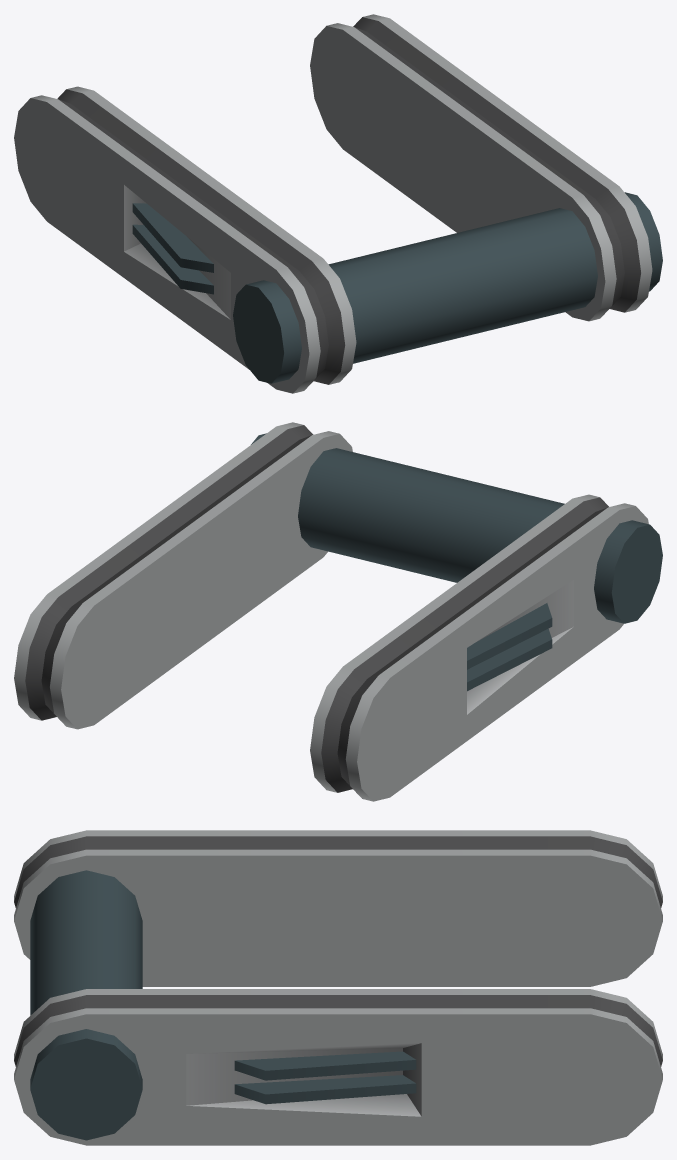
Rendered from Turret_002_Port_03.fbx.
The picture shows the model from 3 angles, top to bottom: view 1: azimuth 30°, elevation 25°; view 2: azimuth 150°, elevation 25°; view 3: azimuth 270°, elevation 25°; orthographic projection. The views are drawn at different scales.
Visible parts, largest first — view 1: Turret_002_Port_03; view 2: Turret_002_Port_03; view 3: Turret_002_Port_03.
Boxes of the visible parts, <box> form: Turret_002_Port_03: <box>14,14,662,393</box>; Turret_002_Port_03: <box>14,422,662,801</box>; Turret_002_Port_03: <box>14,830,662,1145</box>.
Size of the model in its own units: 74.48 by 101 by 22.47.
